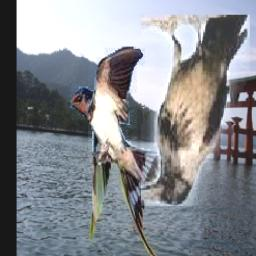Crow: (142, 15, 251, 206)
Swallow: (70, 48, 193, 256)
